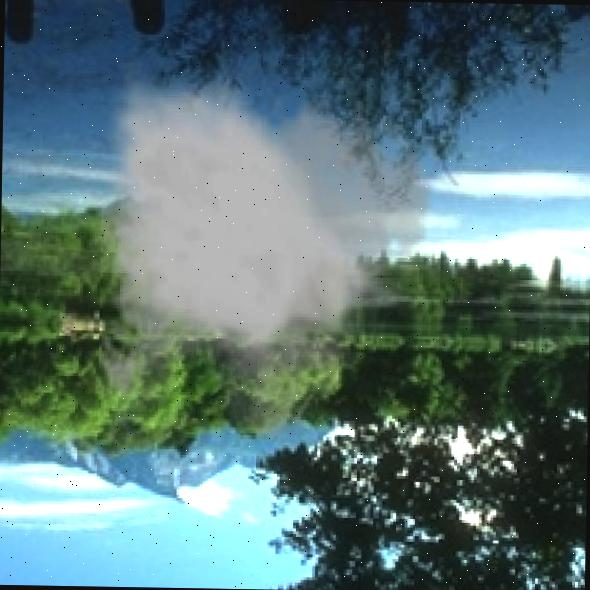smoke: (86, 61, 438, 444)
